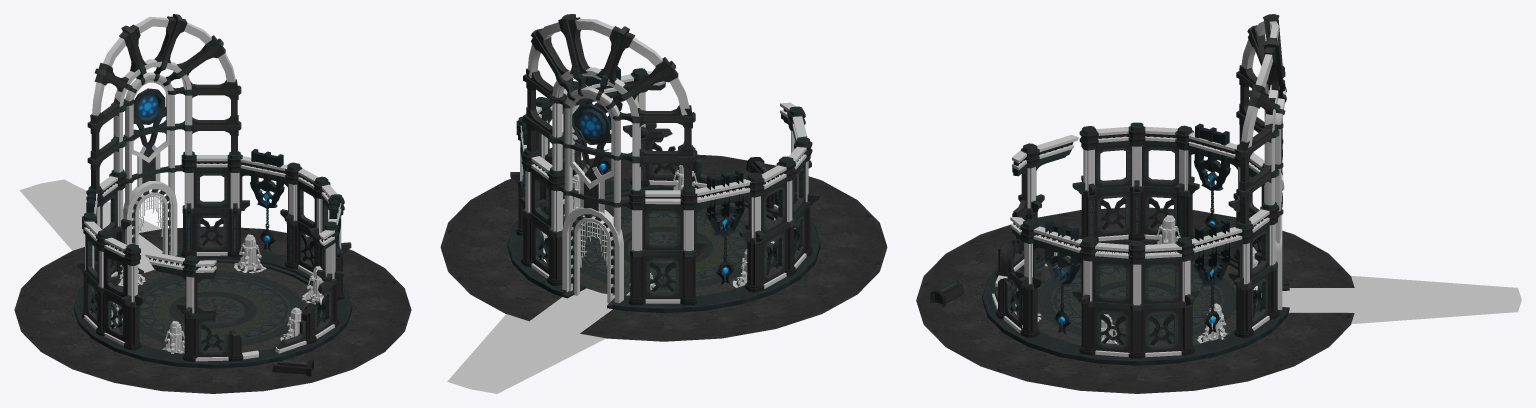
3 renders of one model, left to right at view 1: azimuth 30°, elevation 25°; view 2: azimuth 150°, elevation 25°; view 3: azimuth 270°, elevation 25°, orthographic. The views are drawn at different scales.
Visible parts, largest first — view 1: Prop_Dungeon2, Floor2_Dungeon2, Pillar_Dungeon2, Floor1_Dungeon2, Lamp_Dungeon2, Floor3_Dungeon3, Prop2_Dungeon2, LightStone; view 2: Prop_Dungeon2, Floor2_Dungeon2, Pillar_Dungeon2, Floor1_Dungeon2, Floor3_Dungeon3, Lamp_Dungeon2, Prop2_Dungeon2; view 3: Prop_Dungeon2, Floor2_Dungeon2, Pillar_Dungeon2, Floor1_Dungeon2, Floor3_Dungeon3, Lamp_Dungeon2, LightStone, Prop2_Dungeon2.
Part boxes in pixels (left/top/right/bottom): Prop_Dungeon2: left=76, top=14, right=351, bottom=376; Floor2_Dungeon2: left=14, top=226, right=411, bottom=393; Pillar_Dungeon2: left=84, top=16, right=341, bottom=361; Floor1_Dungeon2: left=73, top=249, right=352, bottom=368; Lamp_Dungeon2: left=86, top=88, right=340, bottom=351; Floor3_Dungeon3: left=20, top=179, right=162, bottom=272; Prop2_Dungeon2: left=111, top=243, right=323, bottom=353; LightStone: left=111, top=234, right=323, bottom=352; Prop_Dungeon2: left=510, top=14, right=819, bottom=305; Floor2_Dungeon2: left=440, top=154, right=887, bottom=341; Pillar_Dungeon2: left=520, top=18, right=808, bottom=303; Floor1_Dungeon2: left=507, top=178, right=820, bottom=313; Floor3_Dungeon3: left=447, top=288, right=614, bottom=393; Lamp_Dungeon2: left=520, top=66, right=801, bottom=293; Prop2_Dungeon2: left=542, top=170, right=795, bottom=295; Prop_Dungeon2: left=929, top=14, right=1286, bottom=358; Floor2_Dungeon2: left=916, top=207, right=1354, bottom=393; Pillar_Dungeon2: left=992, top=21, right=1285, bottom=357; Floor1_Dungeon2: left=982, top=235, right=1289, bottom=365; Floor3_Dungeon3: left=1261, top=275, right=1521, bottom=324; Lamp_Dungeon2: left=1009, top=119, right=1282, bottom=345; LightStone: left=1017, top=215, right=1257, bottom=343; Prop2_Dungeon2: left=1014, top=224, right=1258, bottom=344.
Bounding box in the file's own units: 11952 × 8276 × 16359.
